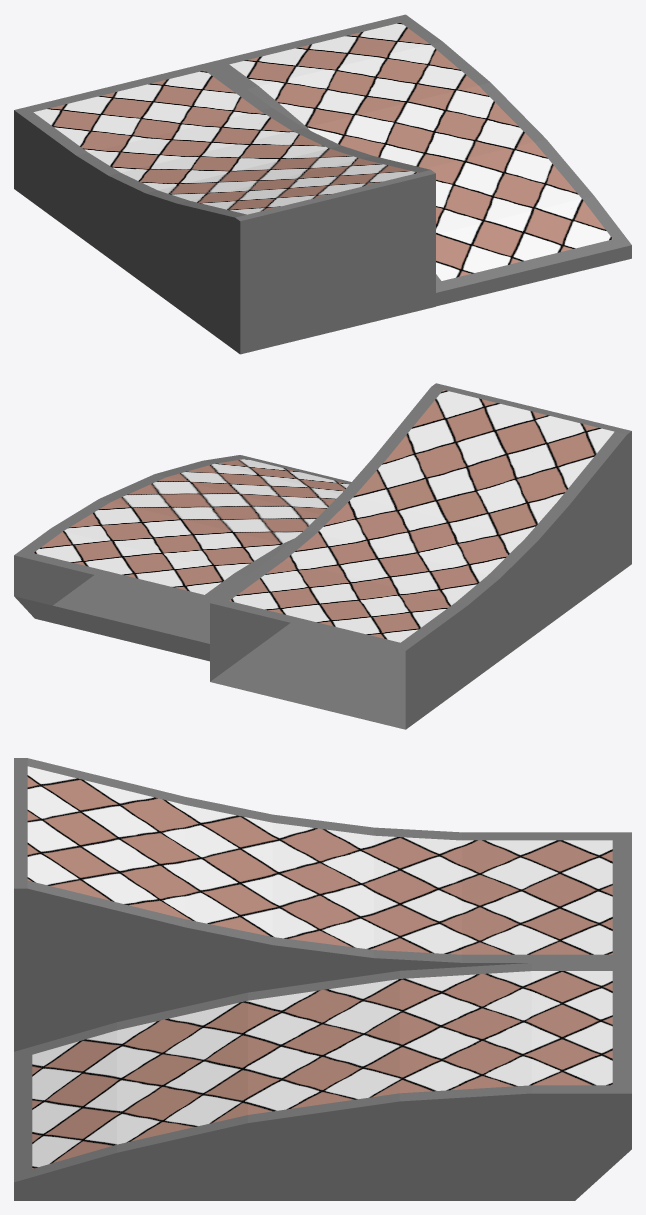
Rendered from LaunchingChunks.fbx.
3 views of the same model, one above another, from view 1: azimuth 30°, elevation 25°; view 2: azimuth 150°, elevation 25°; view 3: azimuth 270°, elevation 25° (orthographic). The views are drawn at different scales.
Visible parts, largest first — view 1: LaunchingChunk_Upward, LaunchingChunk_Downward; view 2: LaunchingChunk_Upward, LaunchingChunk_Downward; view 3: LaunchingChunk_Downward, LaunchingChunk_Upward.
Part boxes in pixels (<box>): LaunchingChunk_Upward: <box>14,62,435,354</box>; LaunchingChunk_Downward: <box>210,14,631,306</box>; LaunchingChunk_Upward: <box>210,383,631,729</box>; LaunchingChunk_Downward: <box>14,455,351,666</box>; LaunchingChunk_Downward: <box>14,963,631,1200</box>; LaunchingChunk_Upward: <box>14,758,631,1051</box>.
Size of what is drawn, in the model's own units: 64 by 64 by 20.79.
